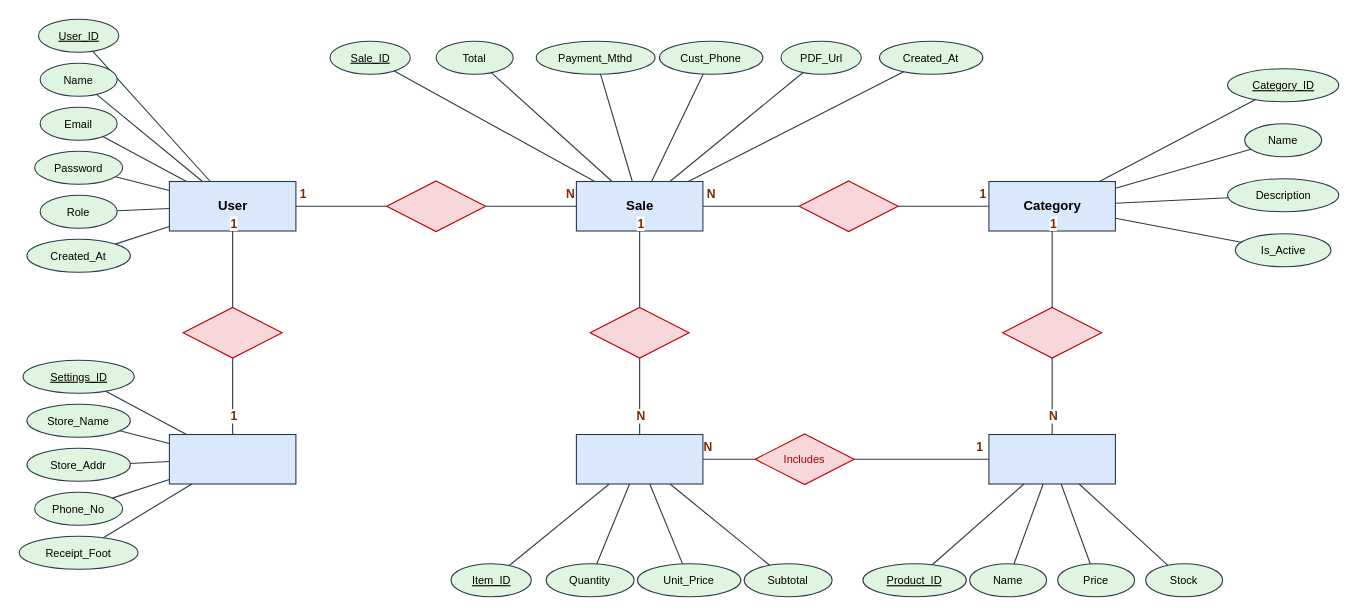
The diagram is 1359 pixels wide and 616 high, and some of its shapes have lost their labels. The shapes that lost their labels are listed below. From the top down, each one's box as (x1, y1, x2, y2) in pixels, then its label:
(386, 180, 486, 232): Processes
(798, 180, 898, 232): Belongs_To
(182, 306, 282, 358): Configures
(589, 306, 689, 358): Contains
(1002, 306, 1102, 358): Classifies
(168, 433, 296, 484): Settings
(575, 433, 703, 484): Sale_Item
(988, 433, 1115, 484): Product
